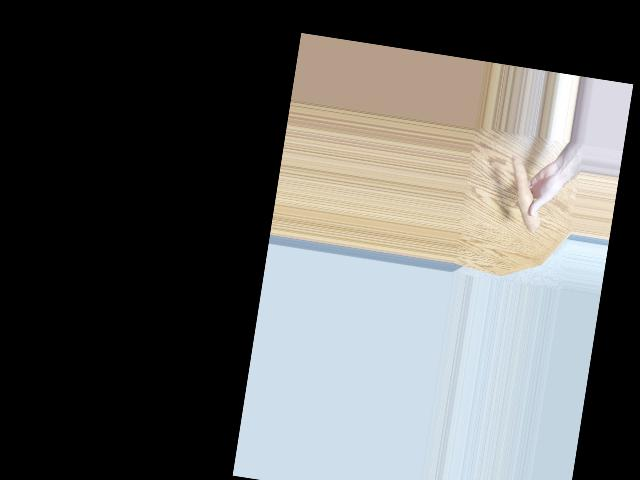sweet_potato: (506, 155, 541, 234)
